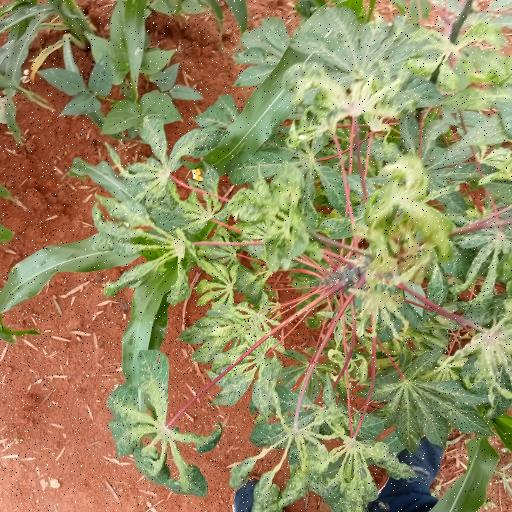Cassava_Mosaic: (104, 347, 220, 494), (372, 370, 486, 440), (183, 289, 271, 378), (317, 426, 404, 503)
